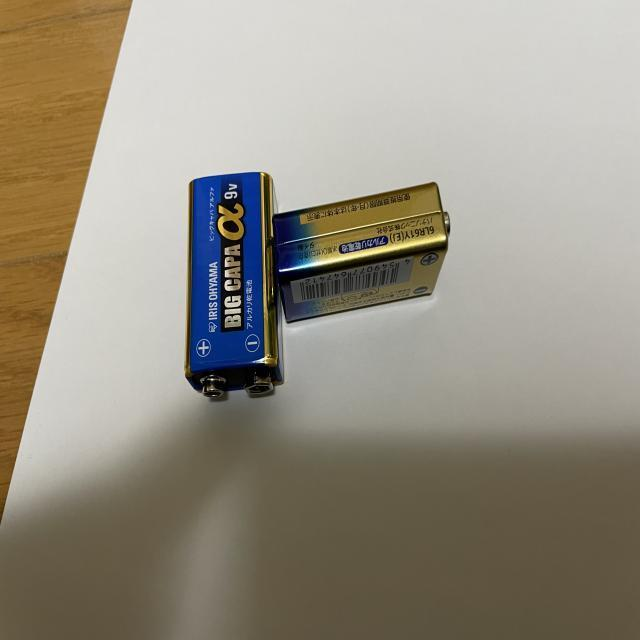9V: (271, 180, 453, 324), (182, 171, 284, 399)
